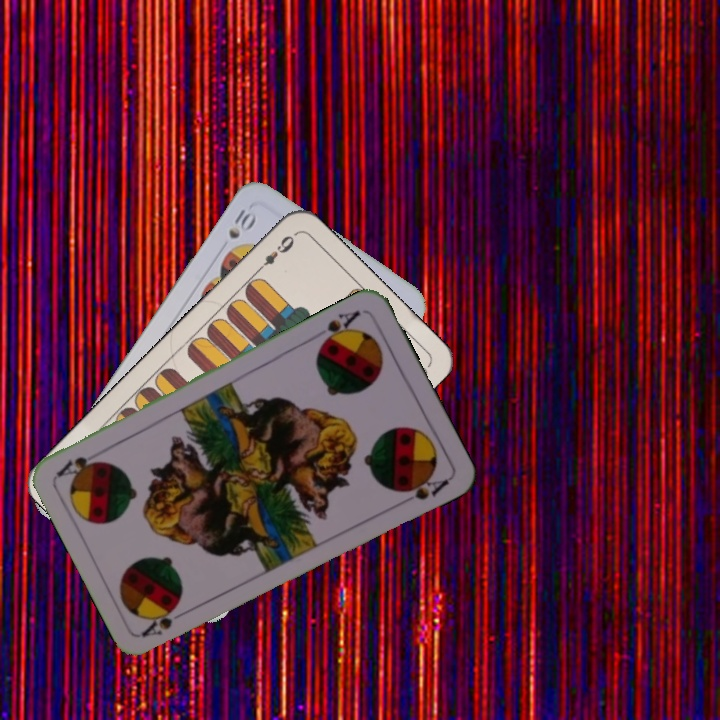E9: (252, 231, 298, 275)
S10: (224, 204, 259, 242)
SA: (310, 306, 363, 349), (138, 603, 193, 640)
